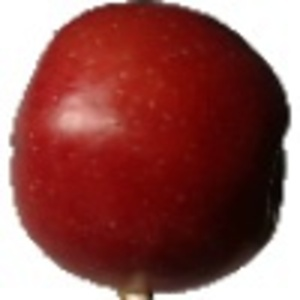maçã braeburn: (7, 2, 292, 294)
